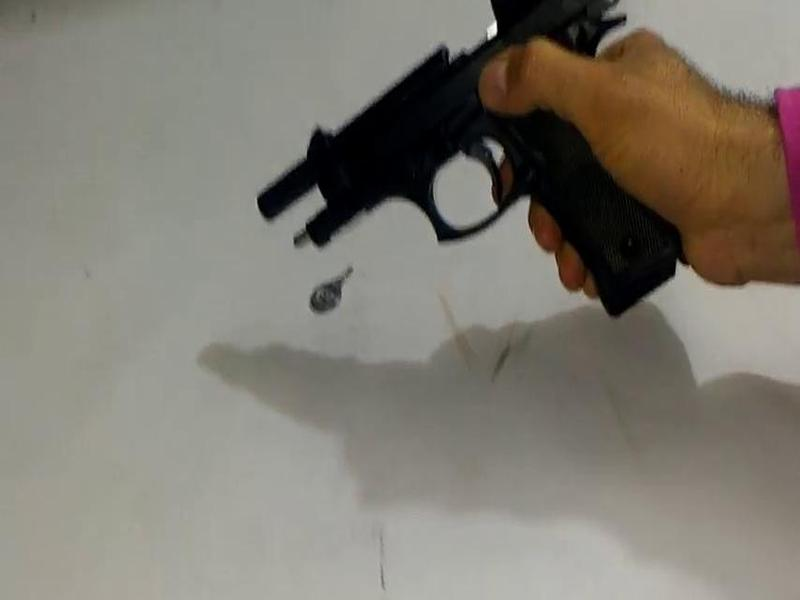Pistola: (237, 9, 709, 349)
